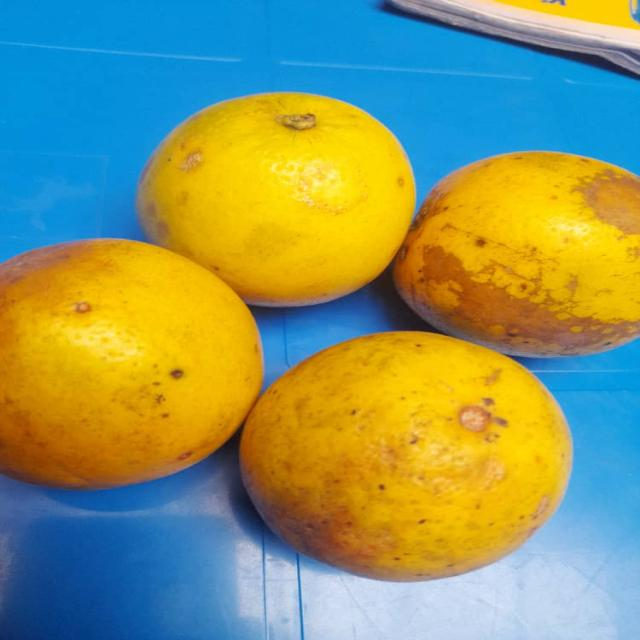Ripe orange: (243, 334, 570, 584), (0, 240, 267, 501), (139, 91, 422, 302), (379, 140, 640, 350)
